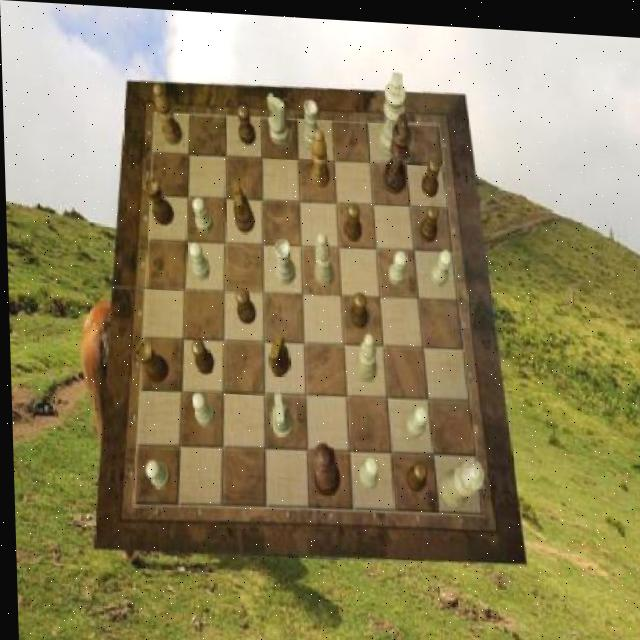bishop: (153, 84, 181, 145), (309, 125, 329, 183)
black-bishop: (381, 108, 413, 191)
black-king: (230, 178, 254, 232), (266, 329, 289, 372)
black-knight: (191, 337, 214, 374), (420, 153, 441, 193), (418, 199, 439, 238), (237, 102, 256, 143), (402, 455, 426, 487), (234, 286, 255, 321), (344, 199, 362, 238), (348, 287, 366, 325)
black-pawn: (310, 438, 338, 494)
black-queen: (134, 340, 168, 383), (144, 176, 174, 223)
black-rook: (313, 230, 334, 285), (353, 330, 375, 378)
white-bishop: (377, 67, 408, 154)
white-king: (266, 89, 288, 141), (269, 389, 293, 435)
white-knight: (428, 243, 451, 281), (189, 390, 213, 426), (188, 239, 209, 279), (403, 400, 427, 433), (192, 196, 213, 232), (356, 452, 377, 487), (387, 246, 408, 281), (144, 458, 169, 487)
white-pawn: (436, 452, 482, 507)
white-queen: (302, 95, 322, 147), (273, 236, 294, 282)
